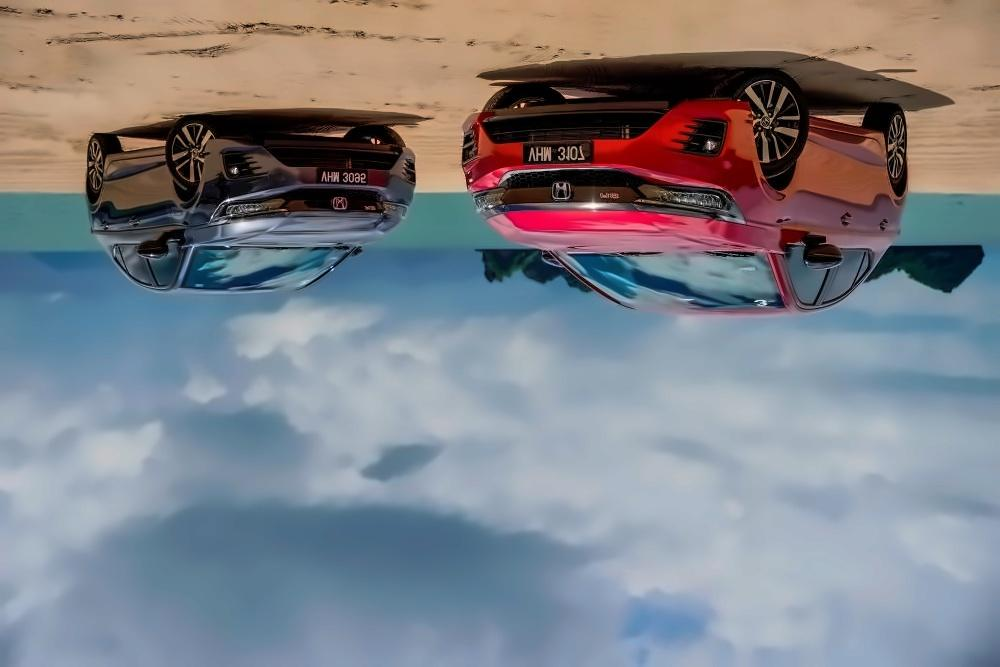Car hood: (482, 212, 778, 256), (188, 214, 401, 250)
Driver-s door - -F-R-: (775, 108, 856, 317)
Fender - -F-L-: (163, 136, 217, 243)
Fender - -F-R-: (744, 110, 804, 245)
Front bumper: (460, 92, 762, 191), (198, 136, 419, 204)
Headlight - -L-: (208, 197, 288, 225), (473, 186, 505, 225)
Headlight - -R-: (638, 182, 747, 224), (380, 198, 410, 224)
Passenger-s door - -F-L-: (119, 141, 192, 295)
Passenger-s door - -R-L-: (96, 142, 154, 296)
Passenger-s door - -R-R-: (815, 104, 895, 316)
Side bumper - -L-: (103, 143, 170, 178)
Side bumper - -R-: (800, 111, 890, 164)
Side mirror - -L-: (136, 230, 175, 259)
Side mirror - -R-: (798, 233, 842, 273)
